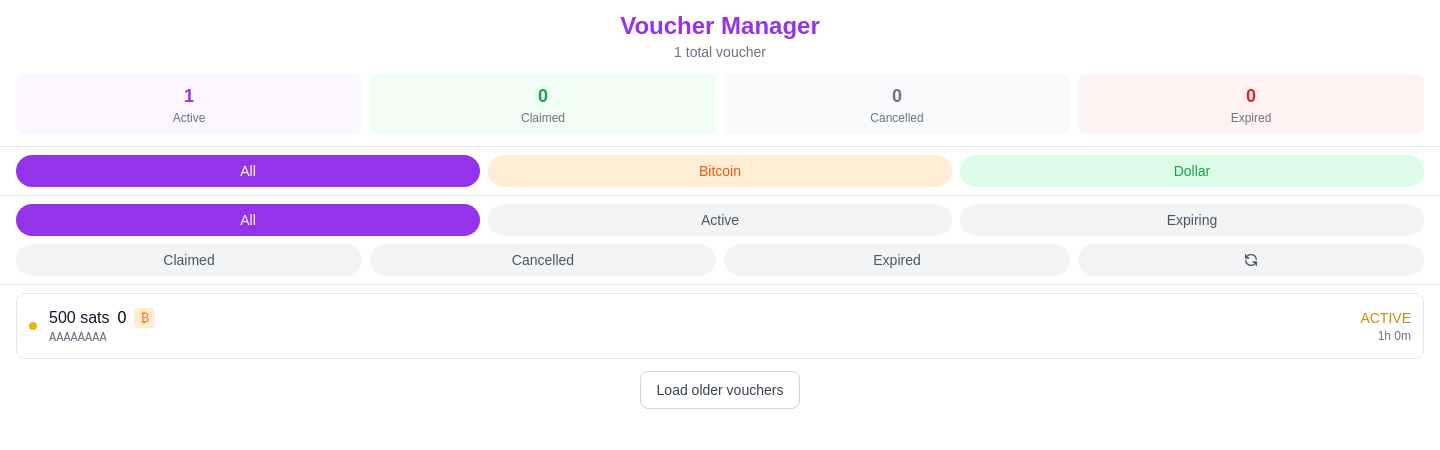
VoucherManager › loads older pages on demand (blink-wip#1617)
The image size is (1440, 450).
Check: the text "AAAAAAAA" is shown, box left=49, top=331, right=107, bottom=345
Check: the text "BBBBBBBB" is not shown
Click the button "Load older vouchers". click: click(720, 390)
box: left=640, top=371, right=800, bottom=409
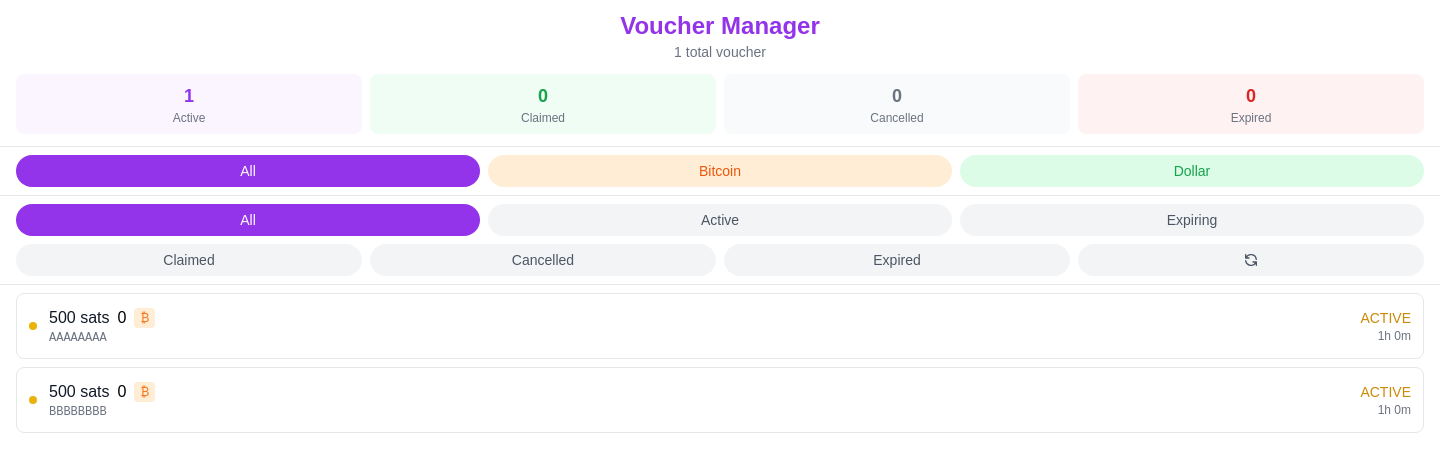
Check: the text "AAAAAAAA" is shown, box left=49, top=331, right=107, bottom=345
Check: the text "BBBBBBBB" is shown, box left=49, top=405, right=107, bottom=419
Check: the button "Load older vouchers" is gone
